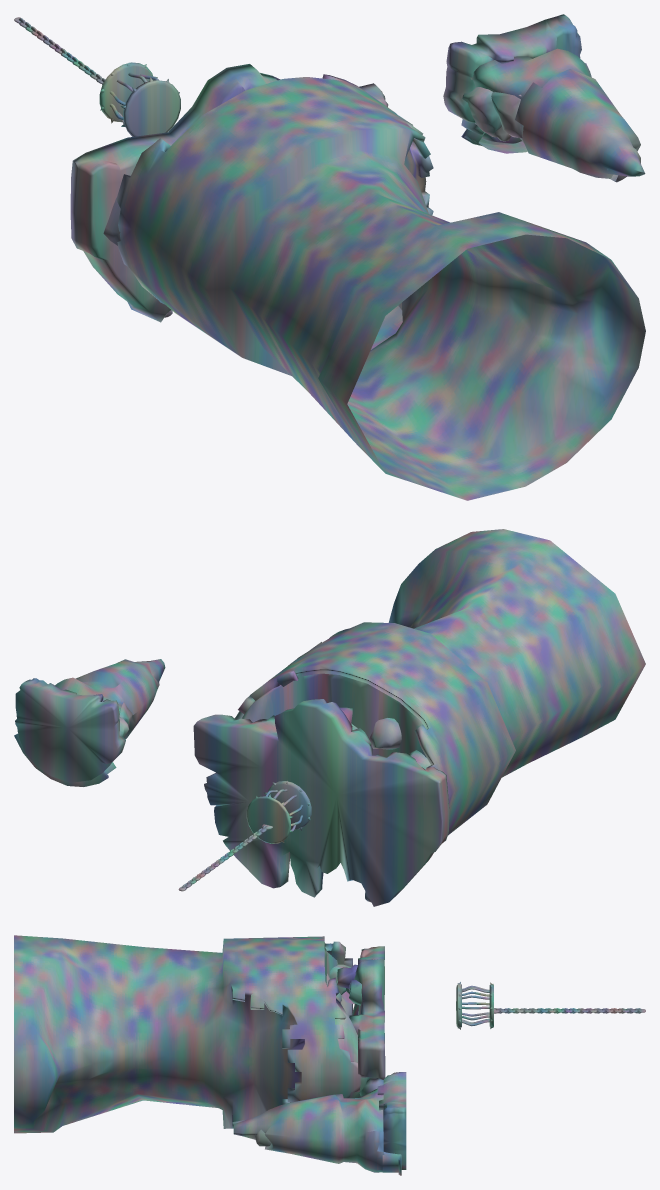
File: transition_temporary.dae
3 views of the same model, one above another, from view 1: azimuth 30°, elevation 25°; view 2: azimuth 150°, elevation 25°; view 3: azimuth 270°, elevation 25° (orthographic). The views are drawn at different scales.
Parts seen in each view (by area): view 1: StreetPassShape (×2); view 2: StreetPassShape; view 3: StreetPassShape (×2).
Boxes of the visible parts, x1,y1,x2,y2 form: StreetPassShape (×2): [14, 14, 645, 500]; StreetPassShape: [14, 529, 645, 906]; StreetPassShape (×2): [14, 935, 645, 1175].
Bounding box in the file's own units: 229 × 347 × 109.
Materials: 2 (2 with a texture image).
